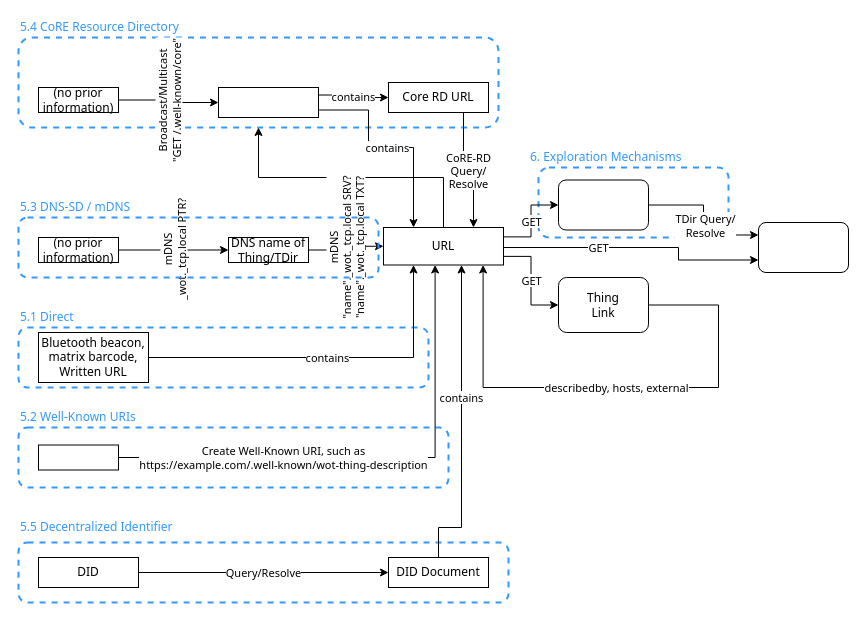
The diagram is 866 pixels wide and 620 high, and some of its shapes have lost their labels. The centre of each missing label's shape, as x and y in pixels:
"Core Link Format" belongs at point 268,102.
"IP address or hostname" belongs at point 78,457.
"Thing Description" belongs at point 803,247.
"Thing Description of Directory" belongs at point 603,204.
